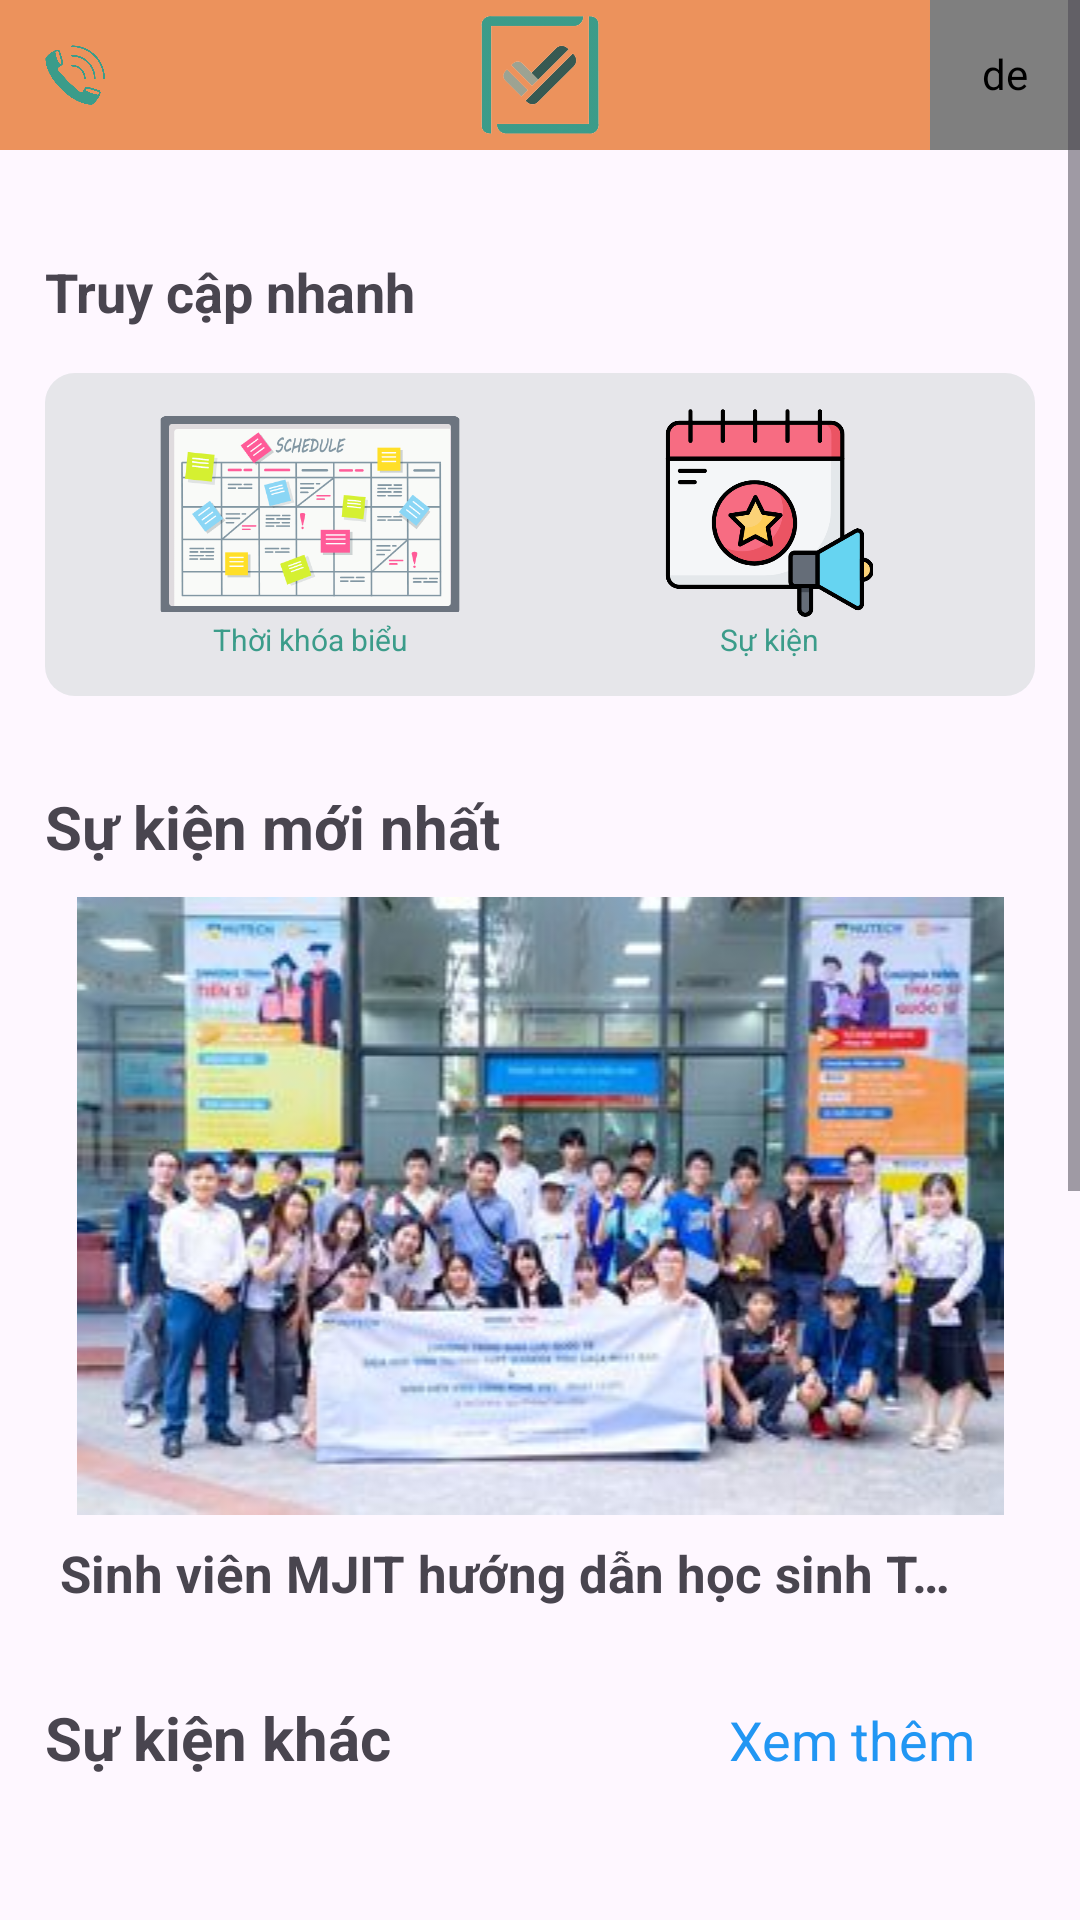

Icons on this 1080 x 1920 Android screen, each with the point to tap as (x=x, y=y):
contact: (x=75, y=75)
